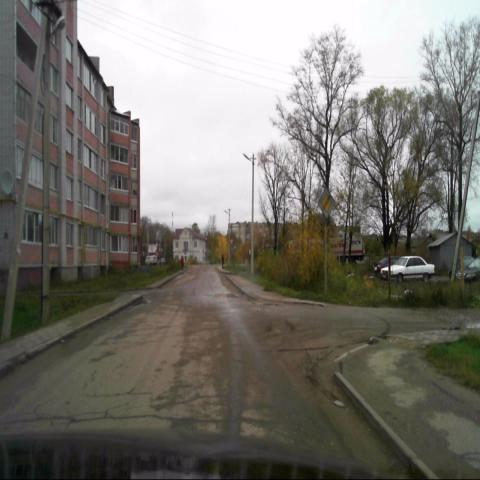2_2: (318, 187, 334, 218)
